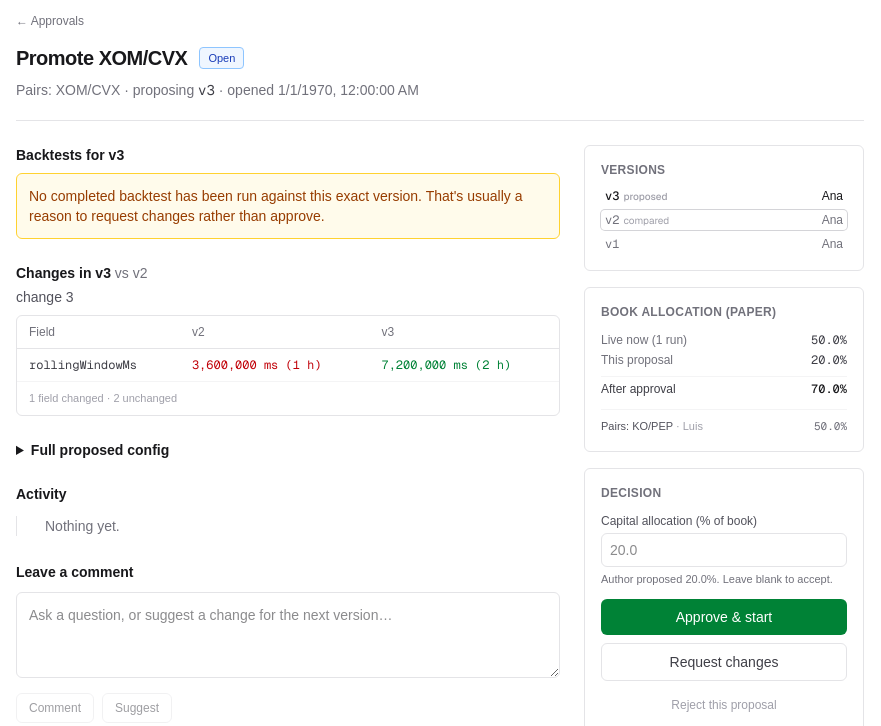
Scenario: proposal review page — version diff › re-bases the diff on any older version picked in the sidebar
Check: the heading "Promote XOM/CVX" is shown, box 16,44 -> 187,72
Click the button "v1 Ana" at (724, 244), box 601,234 -> 847,254
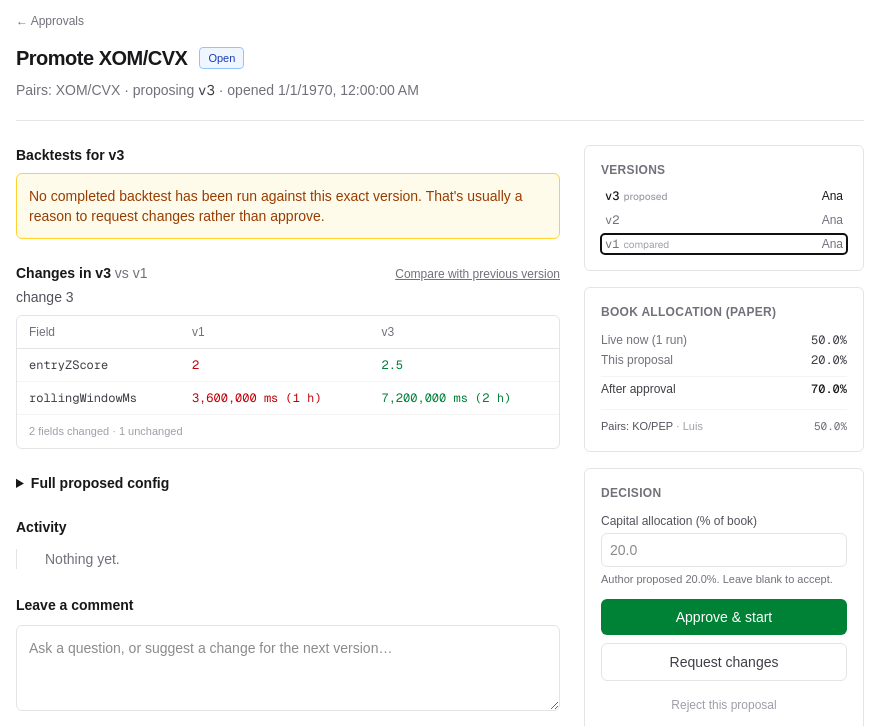
Check: the heading "Changes in v3 vs v1" is shown, box 16,263 -> 148,283
Check: the text "entryZScore" is shown, box 17,348 -> 180,382
